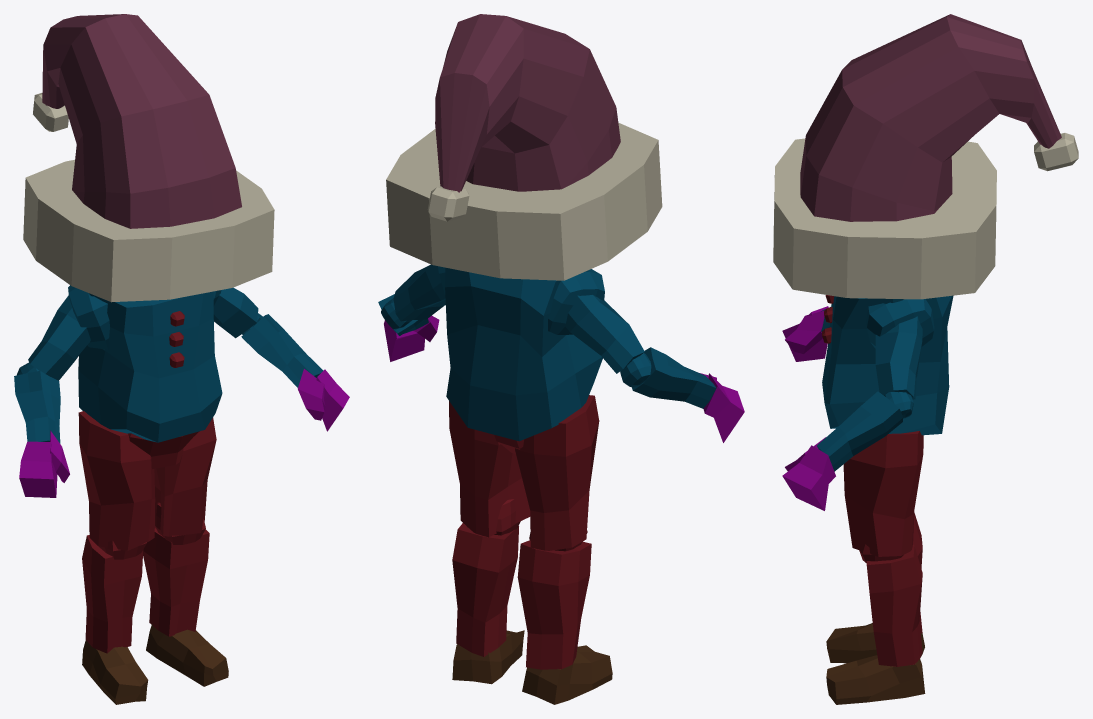
File: knomePurpleA.fbx
The picture shows the model from 3 angles, left to right: view 1: azimuth 30°, elevation 25°; view 2: azimuth 150°, elevation 25°; view 3: azimuth 270°, elevation 25°; orthographic projection. The views are drawn at different scales.
Visible parts, largest first — view 1: Cube.016, Cube.015, Cube, Cube.004, Cube.001, Cube.009, Cube.002, Cube.003, Cube.010, Cube.008, Cube.011, Cube.007 (+2 smaller); view 2: Cube.016, Cube.015, Cube, Cube.004, Cube.001, Cube.003, Cube.009, Cube.002, Cube.010, Cube.008, Cube.017, Cube.006 (+1 smaller); view 3: Cube.016, Cube.015, Cube, Cube.004, Cube.001, Cube.009, Cube.002, Cube.003, Cube.010, Cube.008, Cube.017, Cube.011.
Boxes of the visible parts, <box> form: Cube.016: <box>42,14,241,228</box>; Cube.015: <box>23,159,274,302</box>; Cube: <box>78,291,222,442</box>; Cube.004: <box>78,411,216,550</box>; Cube.001: <box>82,528,209,653</box>; Cube.009: <box>82,624,228,704</box>; Cube.002: <box>14,314,323,443</box>; Cube.003: <box>28,287,258,380</box>; Cube.010: <box>19,369,349,497</box>; Cube.008: <box>68,285,221,349</box>; Cube.011: <box>50,369,325,482</box>; Cube.007: <box>128,431,199,469</box>; Cube.016: <box>435,14,620,192</box>; Cube.015: <box>386,122,662,280</box>; Cube: <box>445,267,602,441</box>; Cube.004: <box>449,395,599,550</box>; Cube.001: <box>452,523,591,669</box>; Cube.003: <box>393,264,644,373</box>; Cube.009: <box>452,630,612,704</box>; Cube.002: <box>378,294,716,408</box>; Cube.010: <box>384,320,744,442</box>; Cube.008: <box>438,266,604,334</box>; Cube.017: <box>427,186,469,221</box>; Cube.006: <box>381,298,651,387</box>; Cube.016: <box>800,14,1061,221</box>; Cube.015: <box>773,138,996,299</box>; Cube: <box>822,295,953,437</box>; Cube.004: <box>843,431,923,556</box>; Cube.001: <box>866,513,922,666</box>; Cube.009: <box>826,623,925,704</box>; Cube.002: <box>817,307,902,471</box>; Cube.003: <box>875,316,922,399</box>; Cube.010: <box>782,306,835,510</box>; Cube.008: <box>866,299,934,348</box>; Cube.017: <box>1034,133,1078,171</box>; Cube.011: <box>785,310,825,471</box>.
Bounding box in the file's own units: 76.84 × 142 × 59.89.
